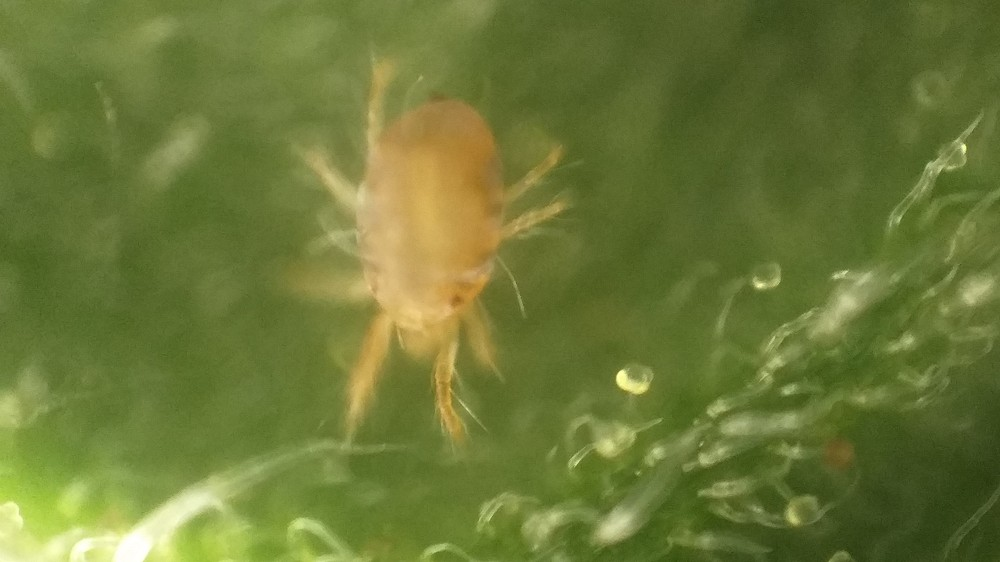Aracnido Rojo: (274, 51, 579, 465)
